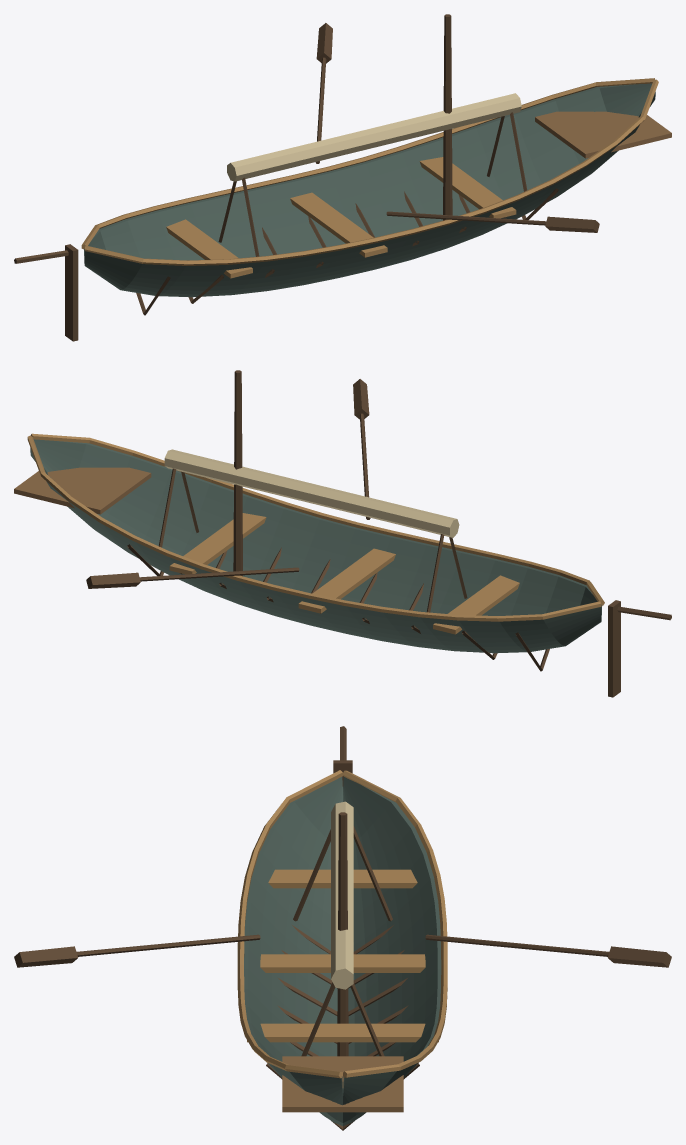
The model's file is decorativos-bote-chalupa.glb.
The picture shows the model from 3 angles, top to bottom: view 1: azimuth 30°, elevation 25°; view 2: azimuth 150°, elevation 25°; view 3: azimuth 270°, elevation 25°; orthographic projection. The views are drawn at different scales.
Parts seen in each view (by area): view 1: bote_chalupa_CascoChalupa, bote_chalupa_MaderaClara, bote_chalupa_MaderaOscura, bote_chalupa_Lona, bote_chalupa_Madera; view 2: bote_chalupa_CascoChalupa, bote_chalupa_MaderaClara, bote_chalupa_MaderaOscura, bote_chalupa_Lona, bote_chalupa_Madera; view 3: bote_chalupa_CascoChalupa, bote_chalupa_MaderaClara, bote_chalupa_MaderaOscura, bote_chalupa_Madera, bote_chalupa_Lona.
Boxes of the visible parts, x1=… form: bote_chalupa_CascoChalupa: x1=84, y1=83, x2=655, y2=297; bote_chalupa_MaderaClara: x1=81, y1=78, x2=658, y2=278; bote_chalupa_MaderaOscura: x1=14, y1=14, x2=599, y2=341; bote_chalupa_Lona: x1=227, y1=93, x2=521, y2=181; bote_chalupa_Madera: x1=535, y1=111, x2=671, y2=158; bote_chalupa_CascoChalupa: x1=30, y1=439, x2=602, y2=653; bote_chalupa_MaderaClara: x1=27, y1=433, x2=604, y2=634; bote_chalupa_MaderaOscura: x1=86, y1=370, x2=671, y2=697; bote_chalupa_Lona: x1=164, y1=449, x2=459, y2=537; bote_chalupa_Madera: x1=14, y1=467, x2=151, y2=514; bote_chalupa_CascoChalupa: x1=244, y1=777, x2=441, y2=1125; bote_chalupa_MaderaClara: x1=237, y1=770, x2=447, y2=1078; bote_chalupa_MaderaOscura: x1=14, y1=726, x2=671, y2=1130; bote_chalupa_Madera: x1=282, y1=1056, x2=403, y2=1112; bote_chalupa_Lona: x1=331, y1=801, x2=353, y2=989.
Size of the model in its own units: 7.42 by 2.6 by 5.49.
